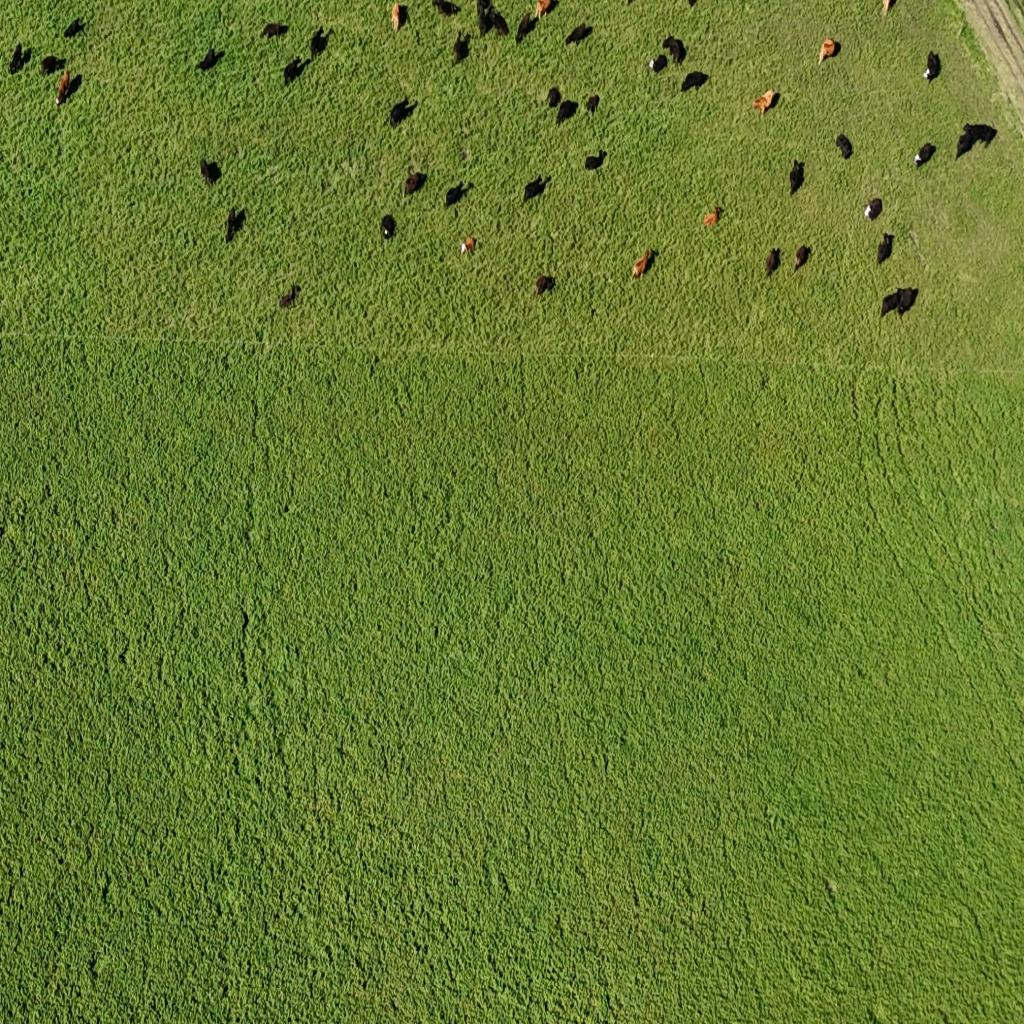cow: (955, 121, 996, 160), (630, 247, 656, 280), (388, 98, 416, 128), (480, 7, 507, 37), (56, 66, 76, 104), (444, 180, 470, 208), (753, 88, 778, 116), (523, 176, 548, 204), (880, 289, 903, 319), (817, 37, 839, 67), (896, 286, 918, 316), (876, 232, 894, 267), (529, 0, 554, 25), (404, 169, 426, 197), (282, 57, 304, 84), (922, 49, 940, 82), (452, 29, 469, 63), (914, 142, 936, 168), (200, 156, 219, 186), (789, 158, 804, 196), (764, 246, 781, 279), (224, 208, 240, 243), (566, 23, 591, 45), (668, 35, 686, 65), (279, 283, 299, 309), (390, 1, 406, 33), (794, 244, 811, 273), (64, 18, 86, 40), (534, 274, 554, 298), (381, 214, 397, 244), (703, 204, 723, 228), (863, 198, 883, 222), (8, 44, 24, 74), (431, 0, 457, 18), (835, 133, 853, 159), (584, 150, 605, 172), (517, 12, 534, 39), (557, 100, 576, 124), (310, 29, 327, 55), (647, 52, 667, 74), (261, 22, 285, 40), (39, 58, 58, 78), (548, 87, 564, 109), (459, 234, 475, 255), (585, 94, 600, 116), (208, 47, 223, 69), (232, 207, 244, 233)
